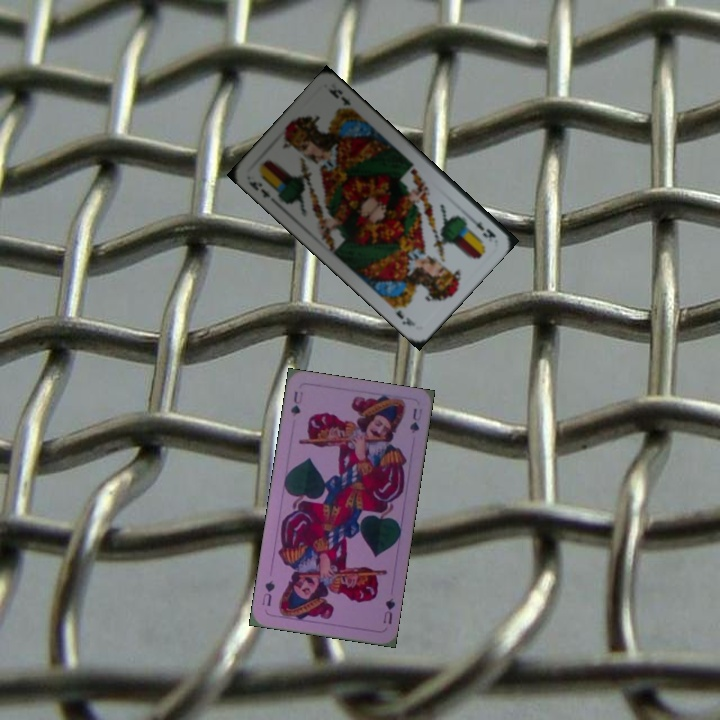EK: (464, 212, 499, 245), (245, 177, 273, 201)
GU: (287, 387, 306, 419), (379, 594, 397, 626)
